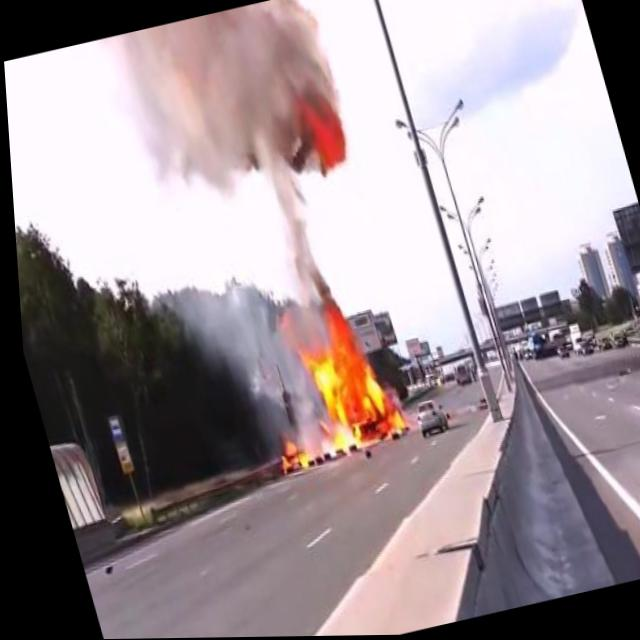fire: (273, 279, 406, 463), (264, 430, 307, 480)
